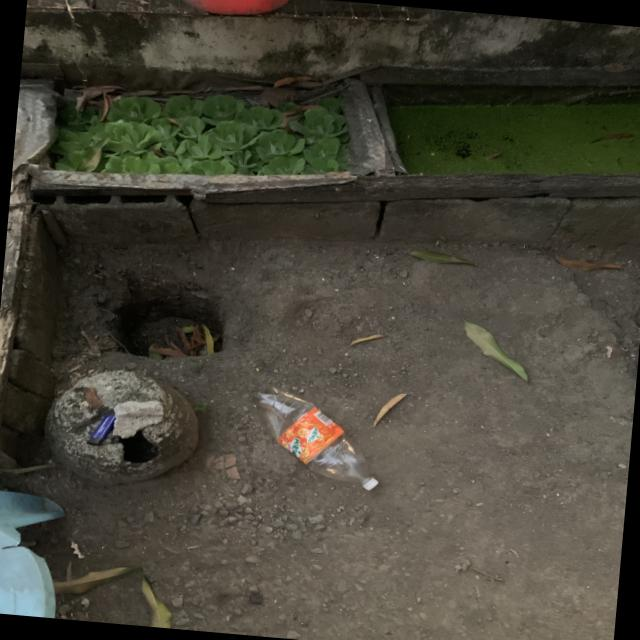Bottle: (247, 389, 378, 490)
